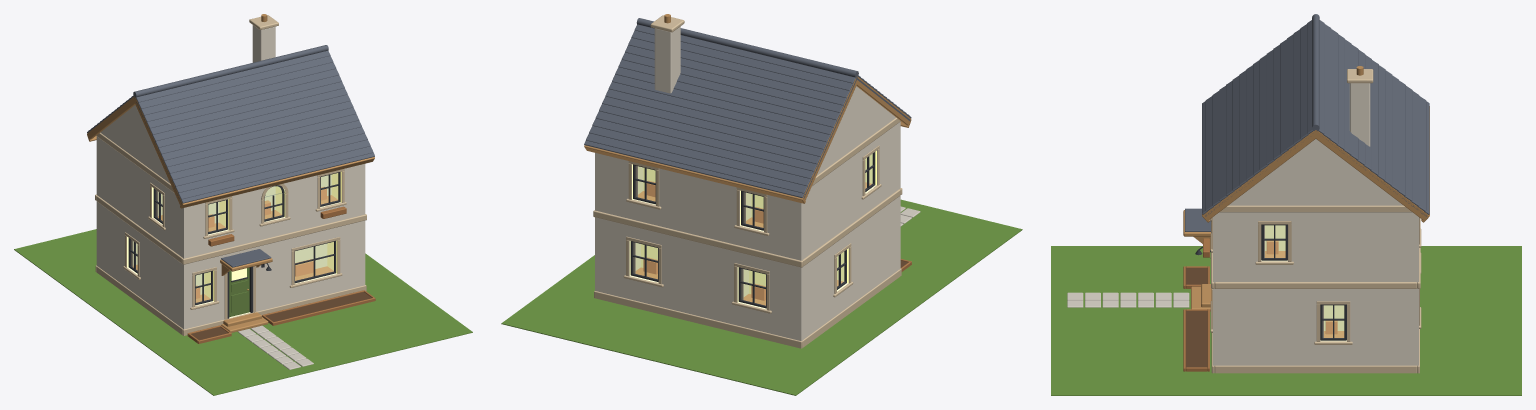
File: house_a.glb
3 views of the same model, side by side, from view 1: azimuth 30°, elevation 25°; view 2: azimuth 150°, elevation 25°; view 3: azimuth 270°, elevation 25° (orthographic). The views are drawn at different scales.
Parts seen in each view (by area): view 1: house_a; view 2: house_a; view 3: house_a.
Boxes of the visible parts, x1,y1,x2,y2 form: house_a: [14, 14, 472, 395]; house_a: [501, 14, 1022, 395]; house_a: [1051, 14, 1521, 395].
Size of what is drawn, in the model's own units: 12 by 10.64 by 16.
